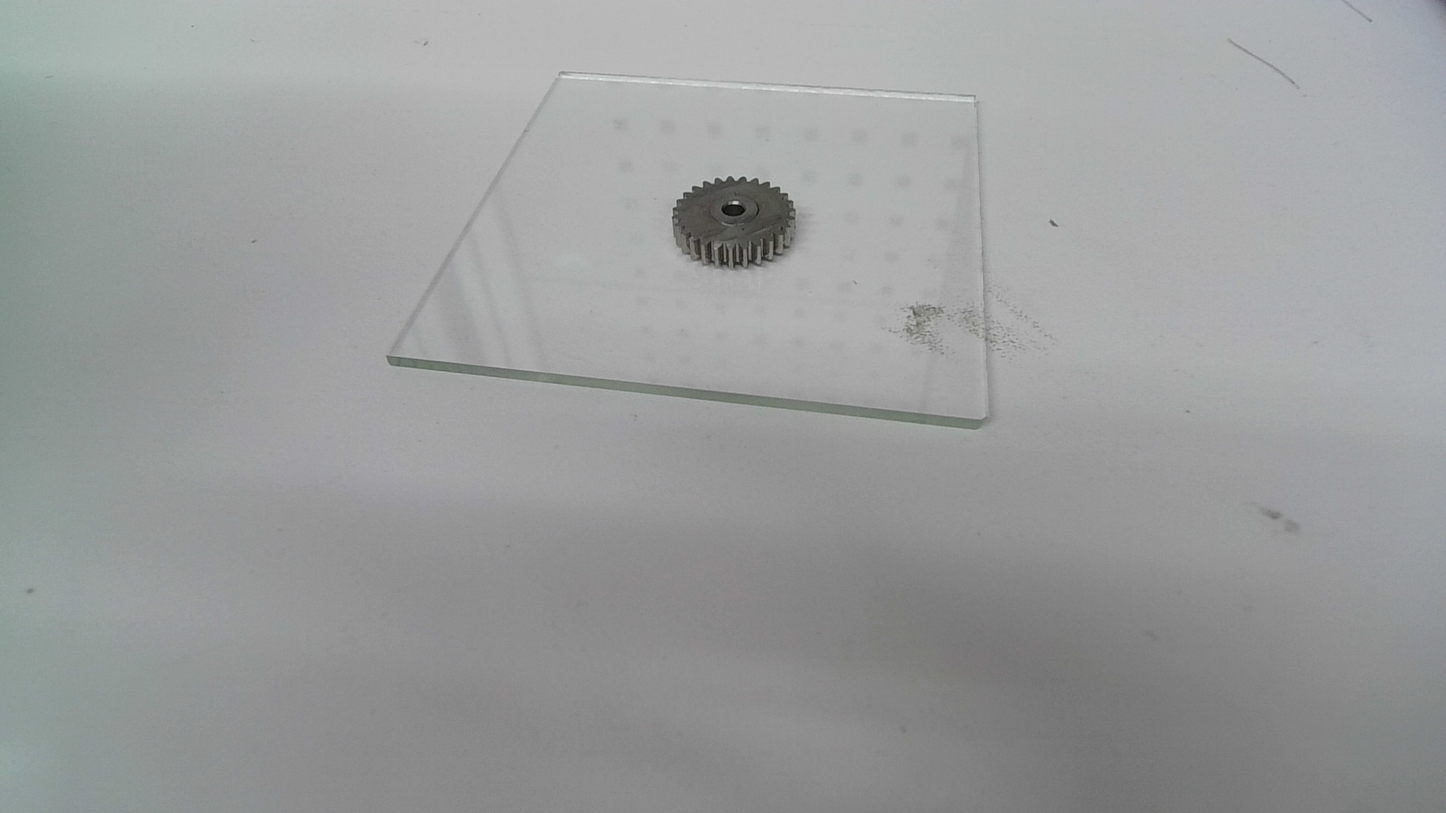gear: (670, 174, 799, 270)
